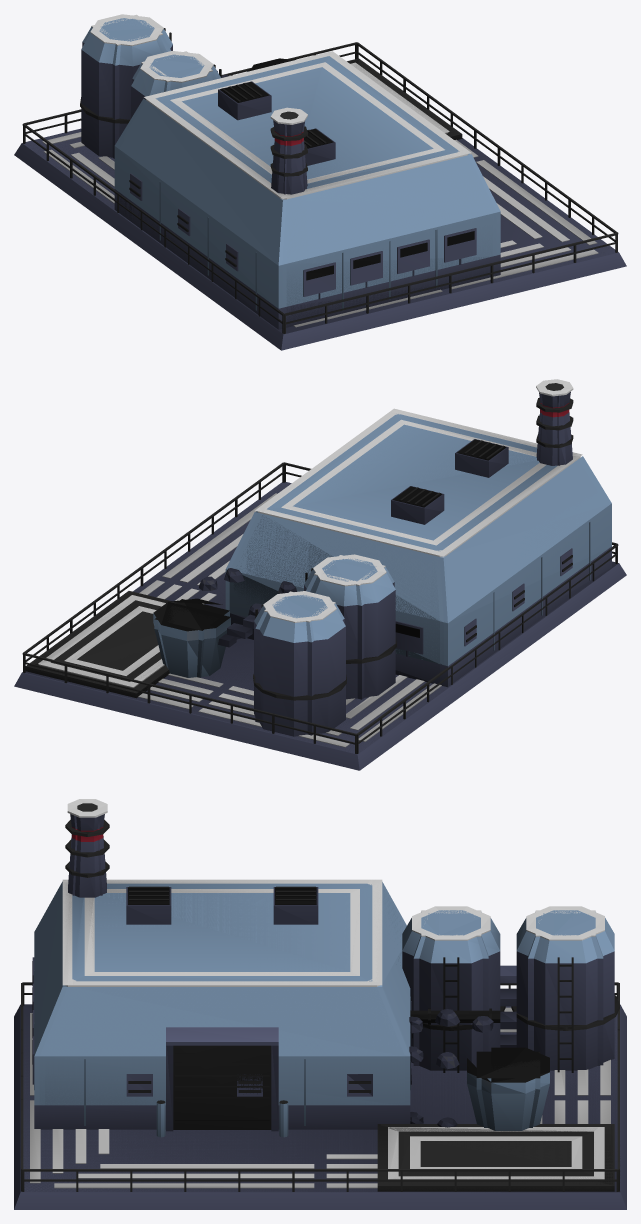
Rendered from veyran_refinery_damaged.glb.
3 renders of one model, top to bottom at view 1: azimuth 30°, elevation 25°; view 2: azimuth 150°, elevation 25°; view 3: azimuth 270°, elevation 25°, orthographic. The views are drawn at different scales.
Parts seen in each view (by area): view 1: body (×3); view 2: body (×3); view 3: body (×3).
Boxes of the visible parts, left/top/right/bottom form: body (×3): left=14, top=14, right=626, bottom=350; body (×3): left=14, top=379, right=626, bottom=770; body (×3): left=14, top=799, right=626, bottom=1209.
Bounding box in the file's own units: 11.2 × 6.25 × 15.
